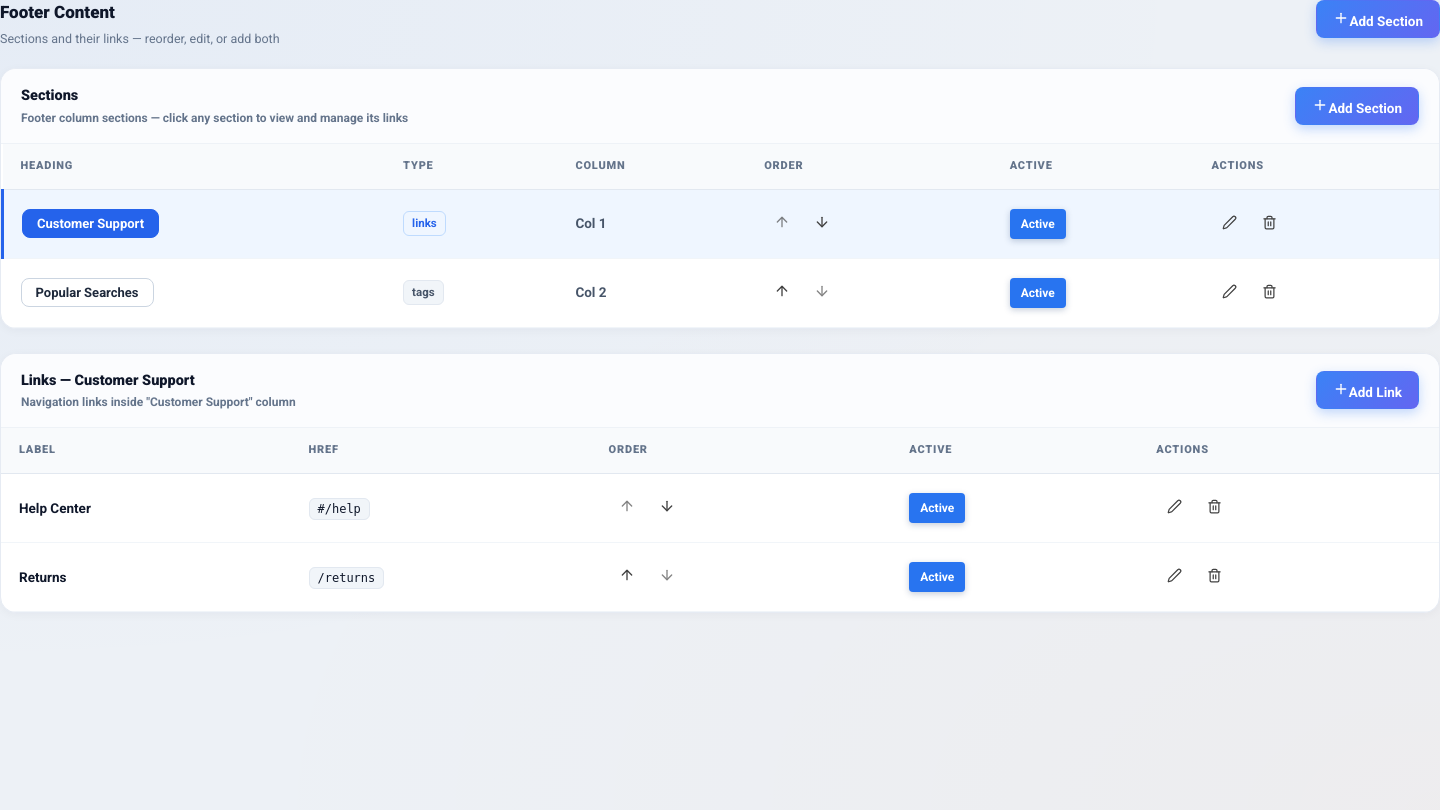
Scenario: FooterEditor › keeps the form open and shows the real error when a save fails
Expected: the button "Customer Support" is shown, [22,209,159,238]
Click the button "Add Link": (1367, 390) [1316,371,1419,409]
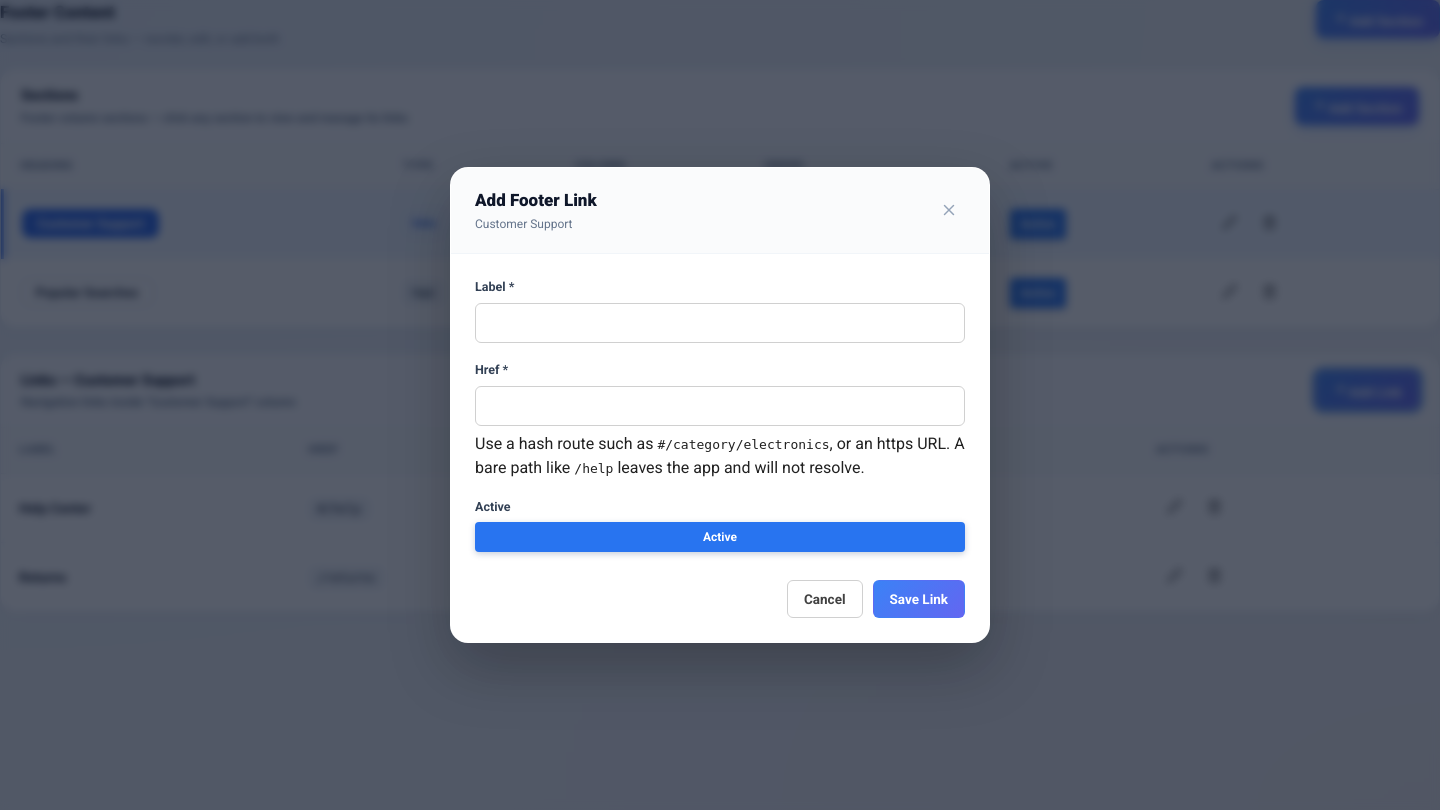
In the field labelled "Label *": (720, 323) [475,303,965,343], type "Broken"
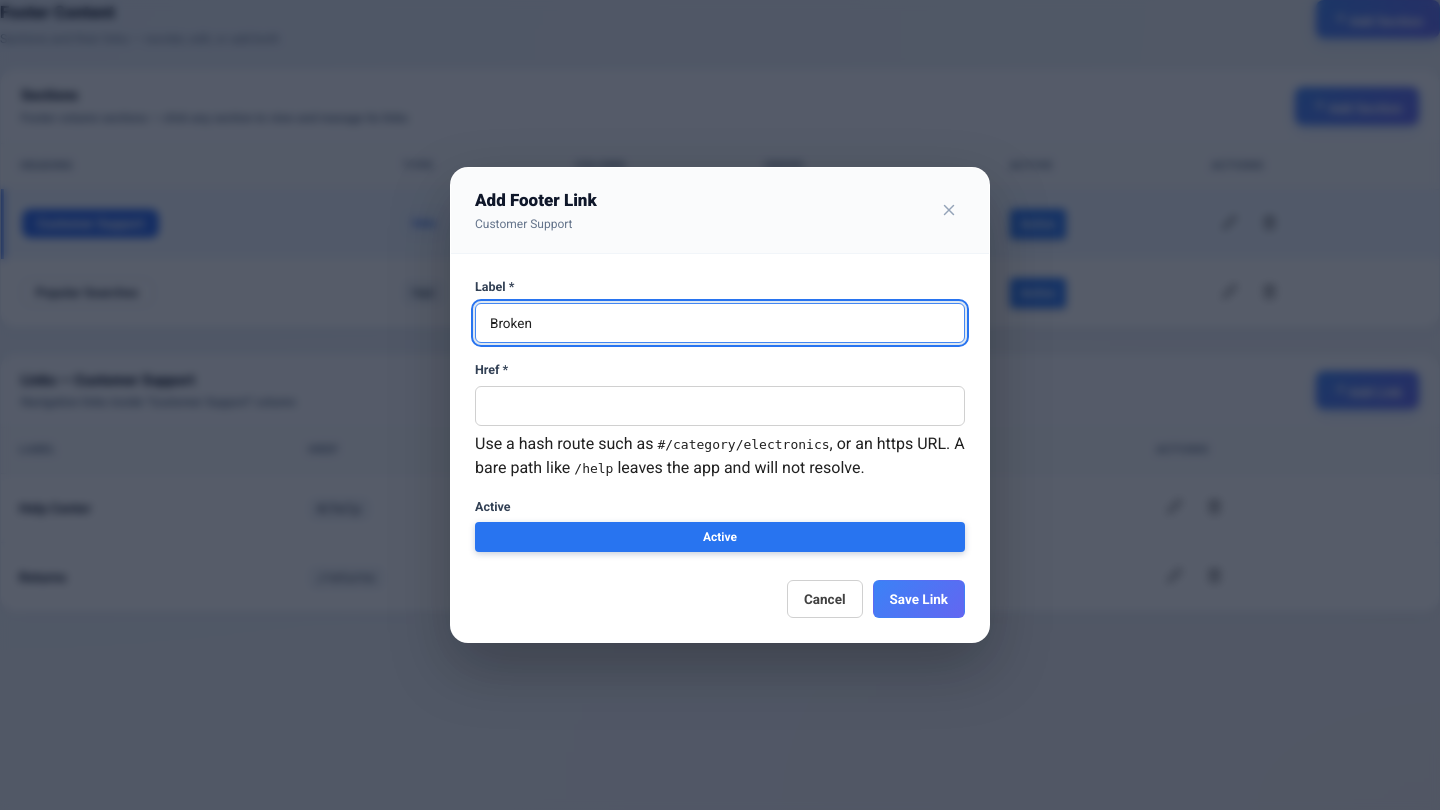
In the field labelled "Href *": (720, 406) [475,386,965,426], type "ftp://nope"
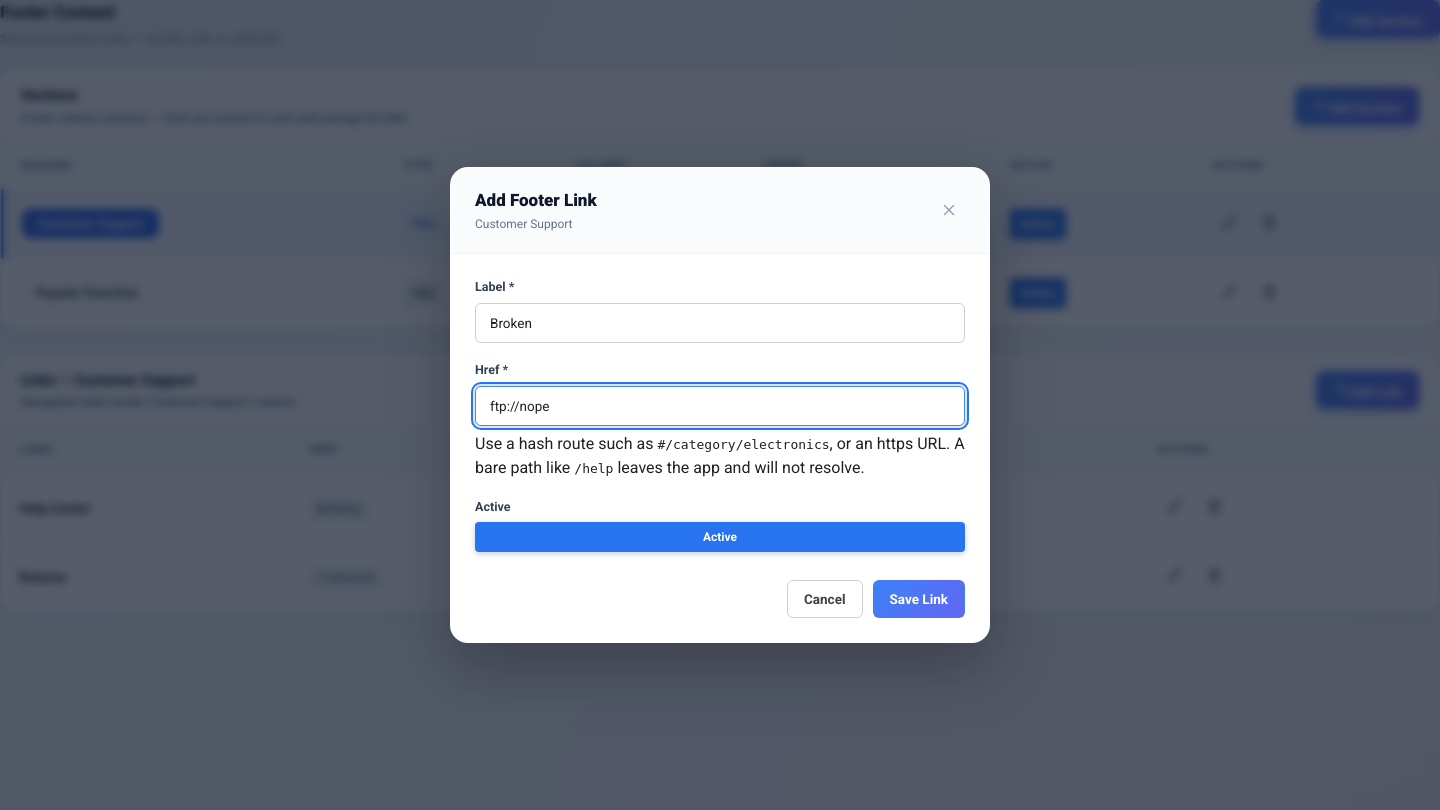
Click the button "Save Link": (919, 599) [872,580,965,618]
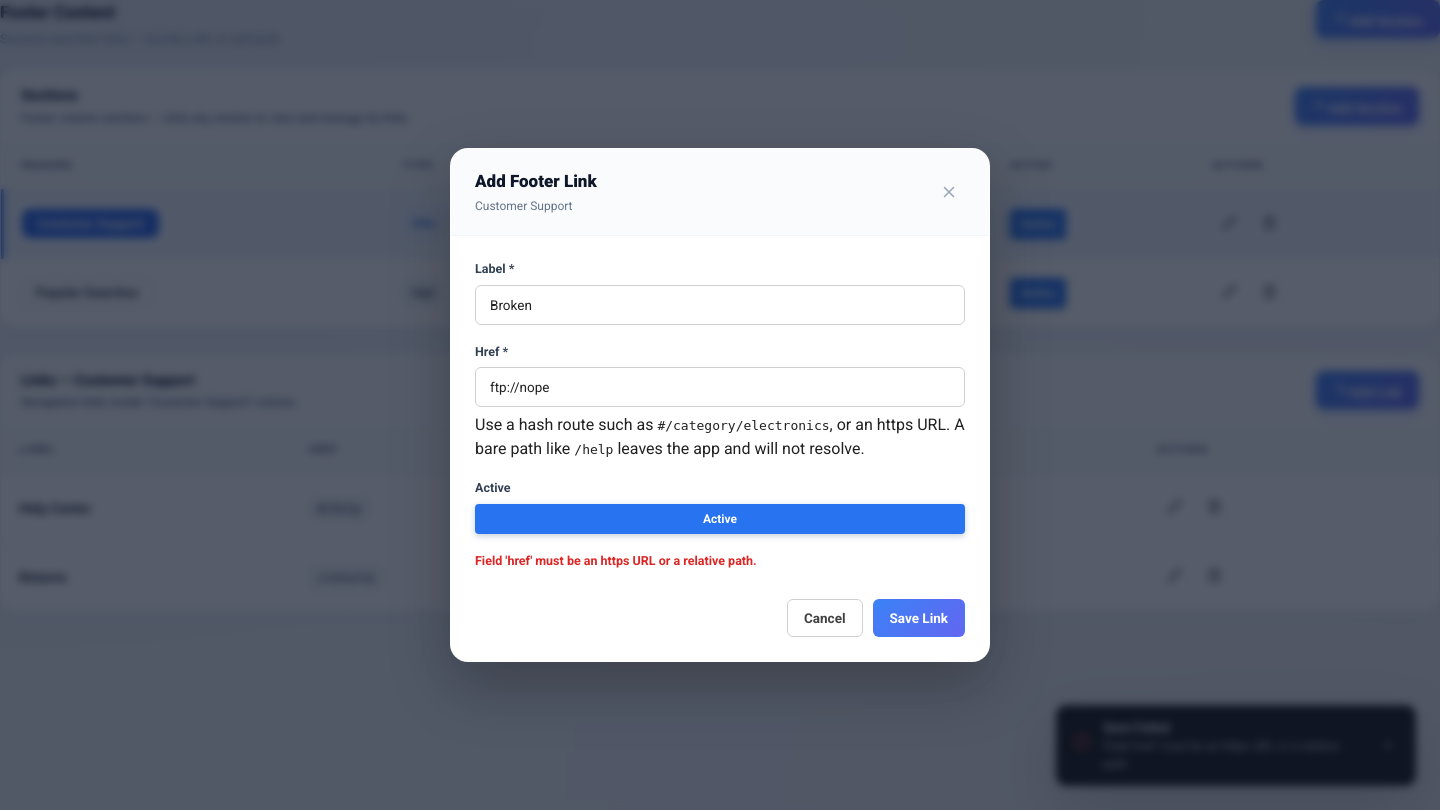
Result: the message shows "must be an https URL" at [475,553,757,568]
